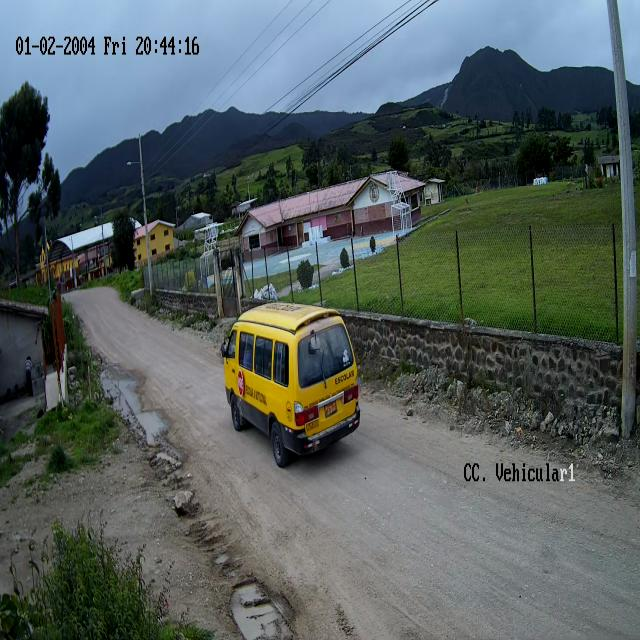BUS: (221, 302, 361, 469)
